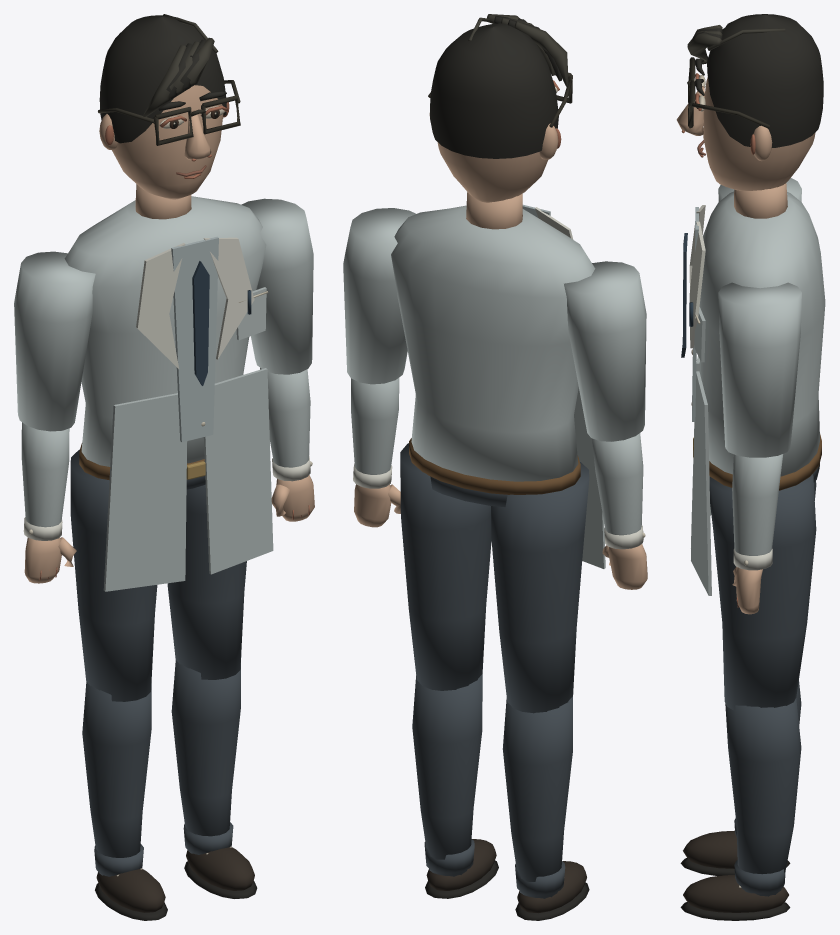
File: labassistant.glb
The picture shows the model from 3 angles, left to right: view 1: azimuth 30°, elevation 25°; view 2: azimuth 150°, elevation 25°; view 3: azimuth 270°, elevation 25°; orthographic projection.
Visible parts, largest first — view 1: body.004_mesh, head.004_mesh, shinL.004_mesh, shinR.004_mesh, legL.004_mesh, armL.004_mesh, legR.004_mesh, armR.004_mesh, forearmL.004_mesh, forearmR.004_mesh; view 2: body.004_mesh, head.004_mesh, legL.004_mesh, legR.004_mesh, shinR.004_mesh, shinL.004_mesh, armL.004_mesh, armR.004_mesh, forearmL.004_mesh, forearmR.004_mesh; view 3: body.004_mesh, head.004_mesh, legR.004_mesh, shinR.004_mesh, armR.004_mesh, forearmR.004_mesh, shinL.004_mesh, armL.004_mesh.
Boxes of the visible parts, <box> form: body.004_mesh: <box>64,184,273,591</box>; head.004_mesh: <box>98,14,240,199</box>; shinL.004_mesh: <box>82,682,167,920</box>; shinR.004_mesh: <box>171,656,257,898</box>; legL.004_mesh: <box>70,449,157,701</box>; armL.004_mesh: <box>14,251,95,431</box>; legR.004_mesh: <box>167,484,246,679</box>; armR.004_mesh: <box>241,198,313,374</box>; forearmL.004_mesh: <box>21,422,76,583</box>; forearmR.004_mesh: <box>260,368,314,521</box>; body.004_mesh: <box>391,192,605,568</box>; head.004_mesh: <box>428,14,572,202</box>; legL.004_mesh: <box>491,462,589,713</box>; legR.004_mesh: <box>400,443,491,690</box>; shinR.004_mesh: <box>412,674,498,898</box>; shinL.004_mesh: <box>502,696,589,920</box>; armL.004_mesh: <box>564,261,646,441</box>; armR.004_mesh: <box>343,208,415,384</box>; forearmL.004_mesh: <box>592,433,647,589</box>; forearmR.004_mesh: <box>351,378,400,527</box>; body.004_mesh: <box>681,183,825,595</box>; head.004_mesh: <box>676,14,823,190</box>; legR.004_mesh: <box>709,474,816,710</box>; shinR.004_mesh: <box>680,698,801,920</box>; armR.004_mesh: <box>718,282,801,457</box>; forearmR.004_mesh: <box>732,454,783,614</box>; shinL.004_mesh: <box>680,680,801,875</box>; armL.004_mesh: <box>718,178,801,201</box>.
Size of the model in its own units: 0.5684 by 1.63 by 0.2511.
